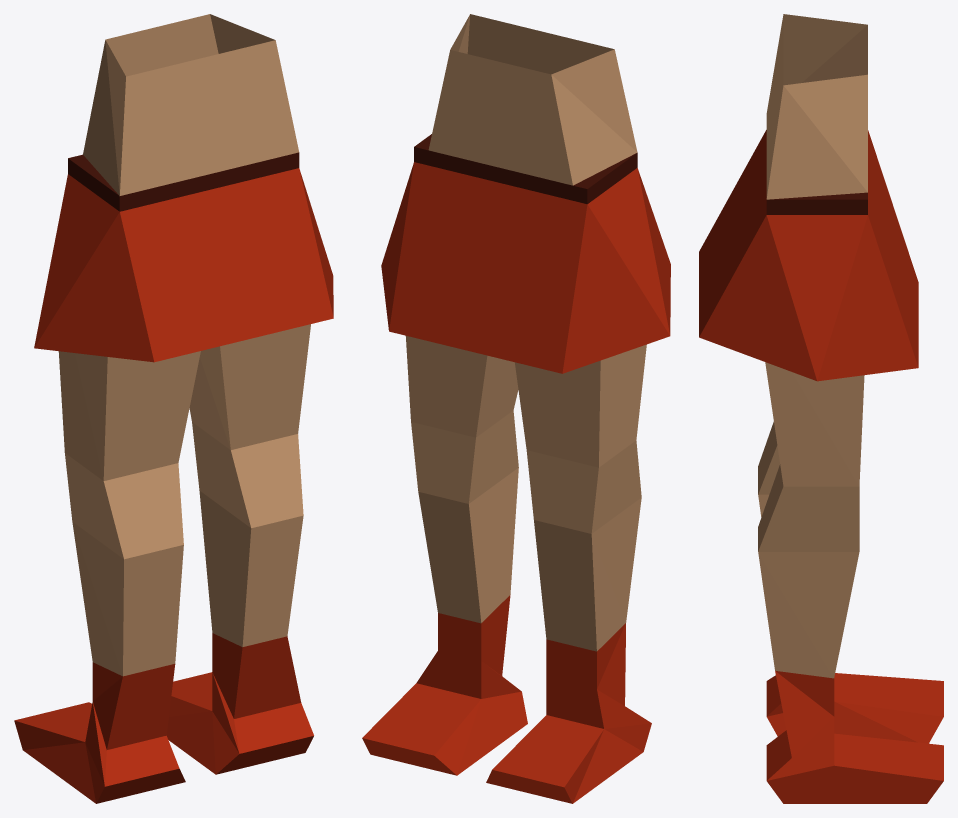
Rendered from npc_world_cheerleader_0.obj.
The picture shows the model from 3 angles, left to right: view 1: azimuth 30°, elevation 25°; view 2: azimuth 150°, elevation 25°; view 3: azimuth 270°, elevation 25°; orthographic projection. The views are drawn at different scales.
Size of the model in its own units: 0.3125 by 0.7188 by 0.2266.
